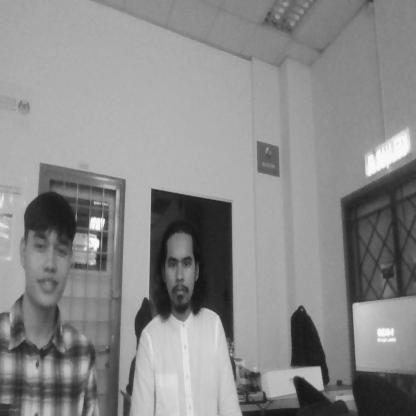Open-Eyes: (30, 229, 73, 261), (166, 253, 192, 273)
